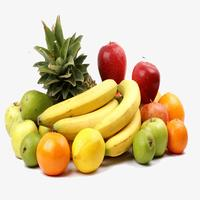apple: (134, 58, 166, 110), (137, 122, 172, 164), (98, 44, 128, 80), (9, 121, 37, 154), (19, 133, 40, 167), (4, 104, 24, 127)
banane: (45, 81, 140, 150)
orange: (38, 132, 80, 176)
